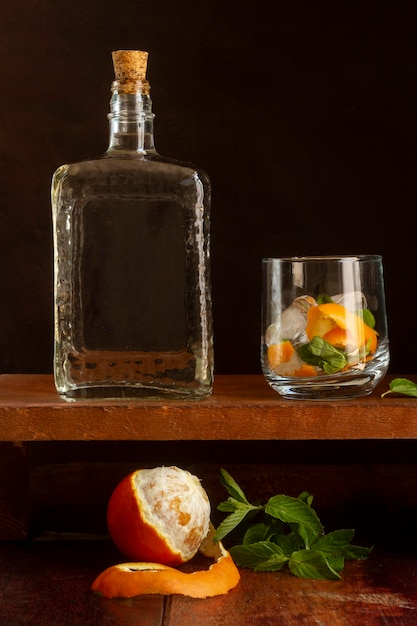alcohol: (48, 48, 216, 401)
